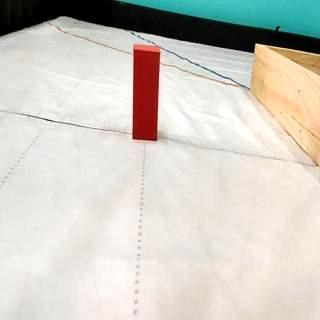redbox: (132, 43, 160, 142)
